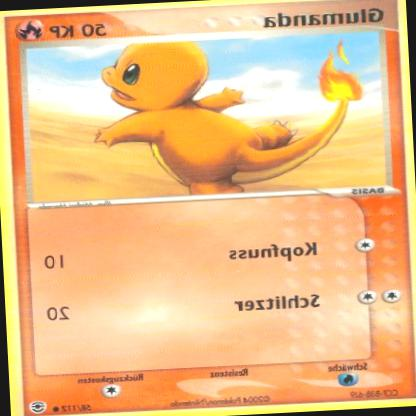Charmander: (85, 34, 356, 201)
